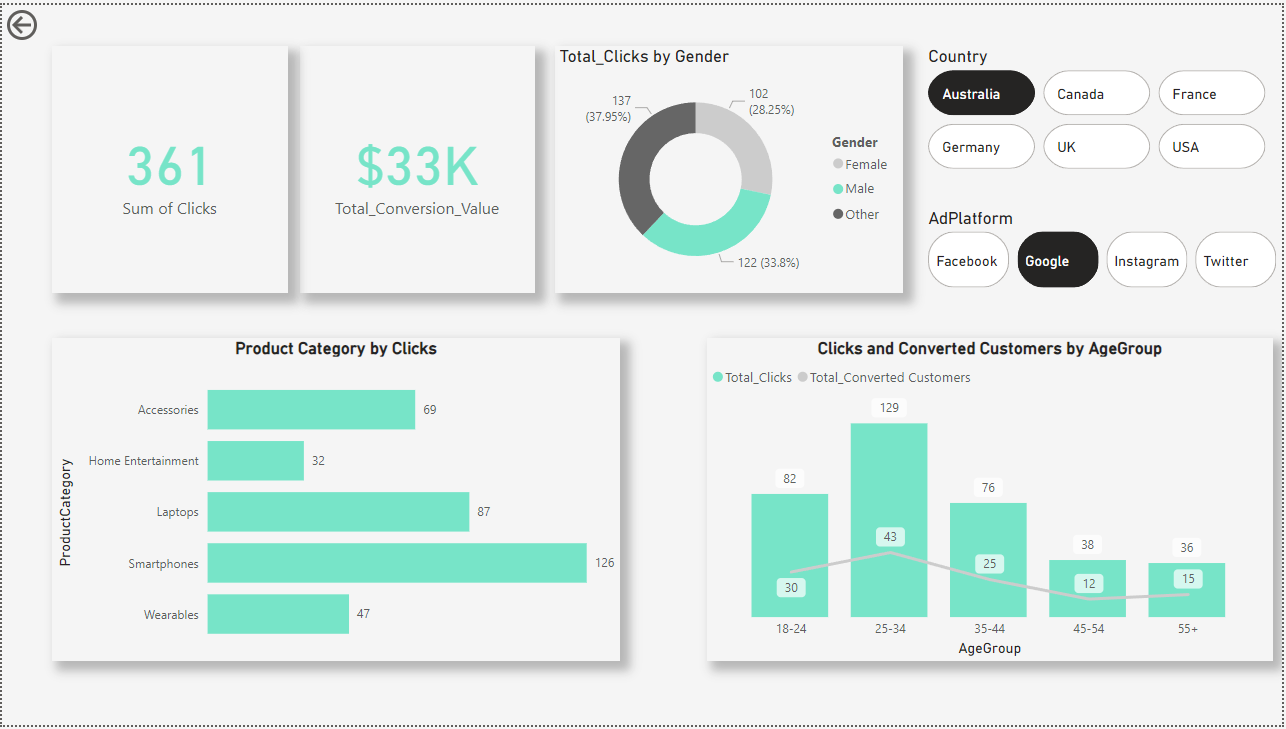

Layout of this report page (visuals, bound fields, positions):
{"tool":"powerbi","page":{"name":"Customers Analysis","canvas":[1280,720],"ordinal":1},"visuals":[{"type":"actionButton","box":[0,0,100,40],"z":0},{"type":"advancedSlicerVisual","fields":{"Values":["Countries_To_imgs.Country"]},"box":[921.7,41,348.7,127.9],"z":1000},{"type":"lineClusteredColumnComboChart","title":"Clicks and Converted Customers by AgeGroup","fields":{"Category":["FitBitDataMarketing.AgeGroup"],"Y2":["FitBitDataMarketing.Total_Converted Customers"],"Y":["FitBitDataMarketing.Total_Clicks"]},"box":[704.6,333,565.8,323.3],"z":3000},{"type":"clusteredBarChart","title":"Product Category by Clicks","fields":{"Category":["FitBitDataMarketing.ProductCategory"],"Y":["FitBitDataMarketing.Total_Clicks"]},"box":[49.5,333,568.2,323.3],"z":4000},{"type":"donutChart","fields":{"Category":["FitBitDataMarketing.Gender"],"Y":["FitBitDataMarketing.Total_Clicks"]},"box":[552.9,41.4,348.6,247.1],"z":5000},{"type":"advancedSlicerVisual","fields":{"Values":["FitBitDataMarketing.AdPlatform"]},"box":[921.7,202.7,358.3,85.7],"z":6000},{"type":"card","fields":{"Values":["Sum(FitBitDataMarketing.Clicks)"]},"box":[50,41.4,235.7,247.1],"z":7000},{"type":"card","fields":{"Values":["FitBitDataMarketing.Total_Conversion_Value"]},"box":[297.1,41.4,235.7,247.1],"z":8000}]}

Visuals, with their boxes in screenshot pixels (x1, y1, x2, y2), scaled from the page's 1280x720 canvas onto the 1286x729 screenshot:
actionButton: <bbox>0, 0, 100, 40</bbox>
advancedSlicerVisual - Countries_To_imgs.Country: <bbox>926, 42, 1276, 171</bbox>
"Clicks and Converted Customers by AgeGroup" lineClusteredColumnComboChart: <bbox>708, 337, 1276, 665</bbox>
"Product Category by Clicks" clusteredBarChart: <bbox>50, 337, 621, 665</bbox>
donutChart - FitBitDataMarketing.Gender x FitBitDataMarketing.Total_Clicks: <bbox>555, 42, 906, 292</bbox>
advancedSlicerVisual - FitBitDataMarketing.AdPlatform: <bbox>926, 205, 1285, 292</bbox>
card - Sum(FitBitDataMarketing.Clicks): <bbox>50, 42, 287, 292</bbox>
card - FitBitDataMarketing.Total_Conversion_Value: <bbox>298, 42, 535, 292</bbox>
